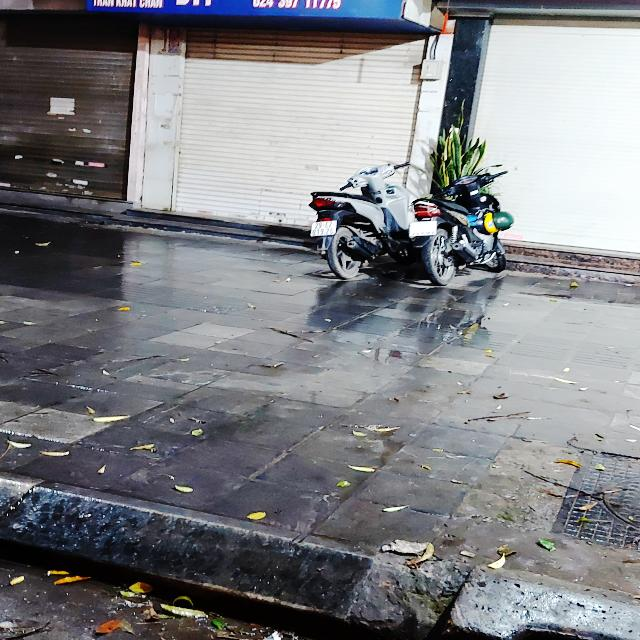license_plate: (311, 221, 338, 238)
